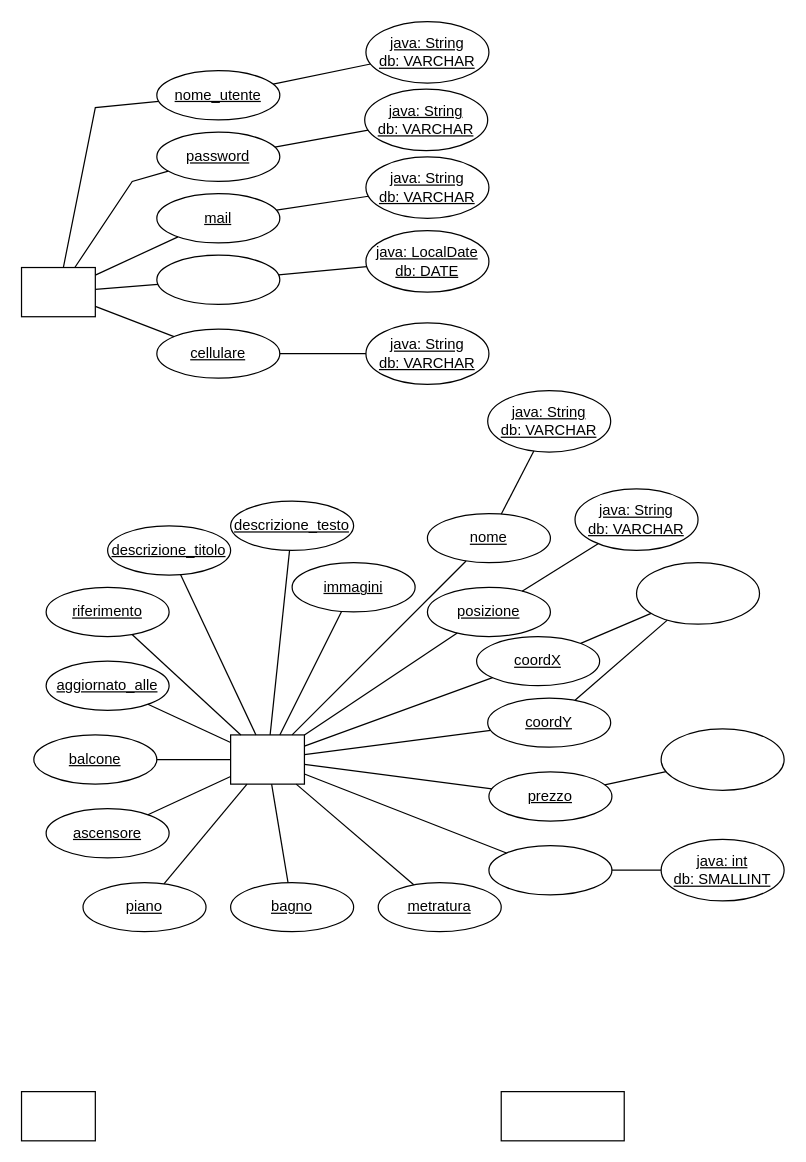
The diagram is 806 pixels wide and 1162 high, and some of its shapes have lost their labels. The shapes that lost their labels are listed below. From the top down, each one's centre as x and y in pixels, then its label:
At (57,291): "utente".
At (218,279): "data_nascita".
At (697,592): "java: float db: FLOAT".
At (266,759): "immo bile".
At (722,759): "java: float db: DECIMAL".
At (550,869): "locali".
At (57,1115): "agenzia".
At (562,1115): "proprietario".
